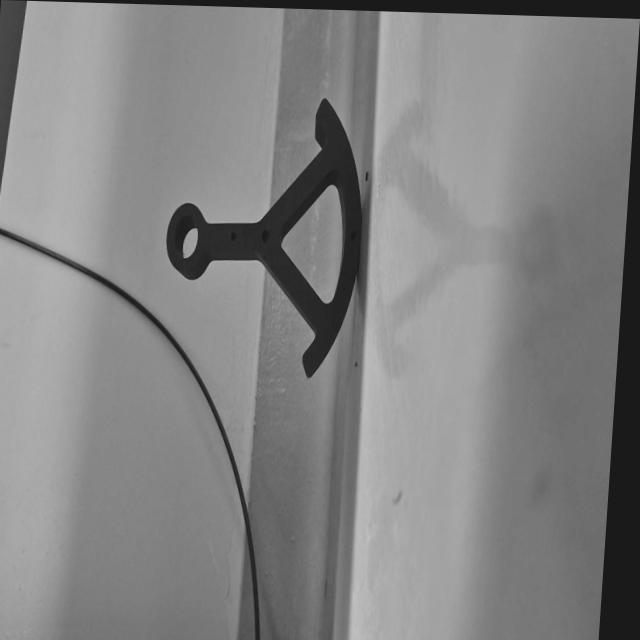haptic: (155, 91, 370, 381)
